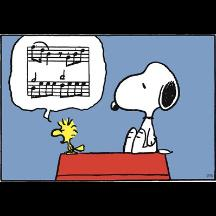snoopy: (110, 60, 182, 156)
